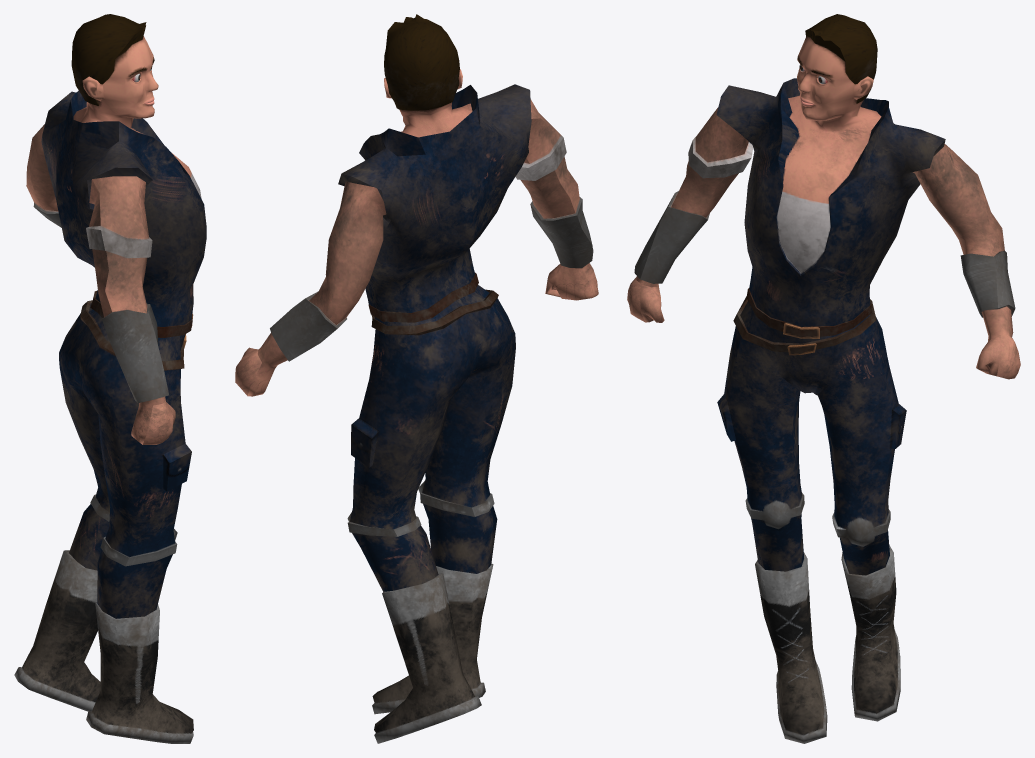
The model's file is Anim_ataque_f1_jugador.0033.obj.
3 renders of one model, left to right at view 1: azimuth 30°, elevation 25°; view 2: azimuth 150°, elevation 25°; view 3: azimuth 270°, elevation 25°, orthographic. The views are drawn at different scales.
Parts seen in each view (by area): view 1: polySurface1; view 2: polySurface1; view 3: polySurface1.
Boxes of the visible parts, x1,y1,x2,y2 form: polySurface1: [14, 14, 206, 743]; polySurface1: [235, 14, 598, 743]; polySurface1: [627, 14, 1020, 743].
Bounding box in the file's own units: 2.73 × 9.91 × 5.07.
